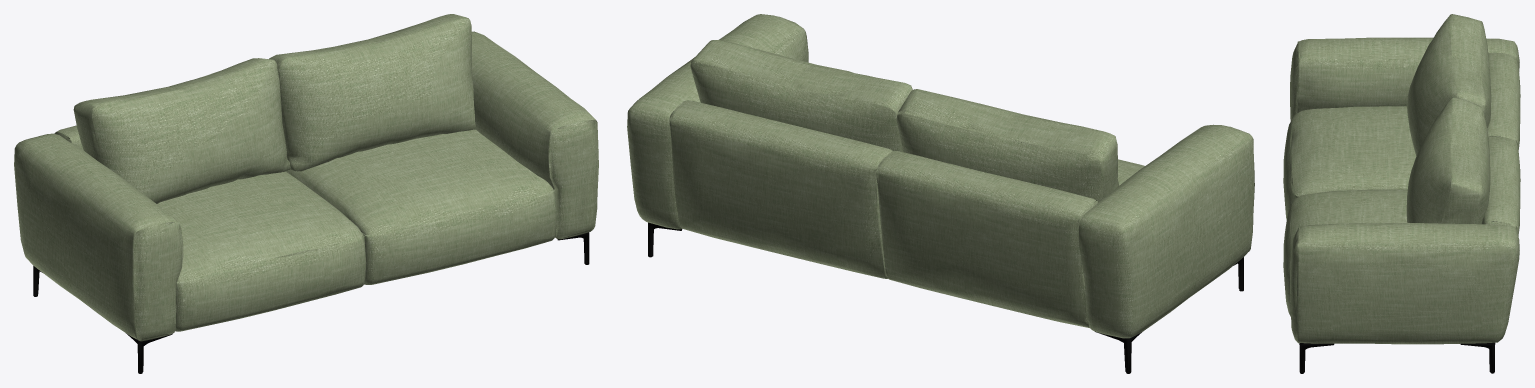
The model's file is audrey.glb.
The picture shows the model from 3 angles, left to right: view 1: azimuth 30°, elevation 25°; view 2: azimuth 150°, elevation 25°; view 3: azimuth 270°, elevation 25°; orthographic projection. The views are drawn at different scales.
Parts seen in each view (by area): view 1: Polygon Reduction.3, Polygon Reduction.1; view 2: Polygon Reduction.3, Polygon Reduction.1; view 3: Polygon Reduction.3, Polygon Reduction.1.
Boxes of the visible parts, bbox=[...] form: Polygon Reduction.3: bbox=[14, 14, 598, 341]; Polygon Reduction.1: bbox=[33, 232, 589, 373]; Polygon Reduction.3: bbox=[627, 14, 1254, 338]; Polygon Reduction.1: bbox=[648, 222, 1243, 373]; Polygon Reduction.3: bbox=[1283, 14, 1520, 344]; Polygon Reduction.1: bbox=[1299, 342, 1495, 373].
Size of the model in its own units: 1.82 by 0.718 by 0.8581.
Materials: 2 (1 with a texture image).
